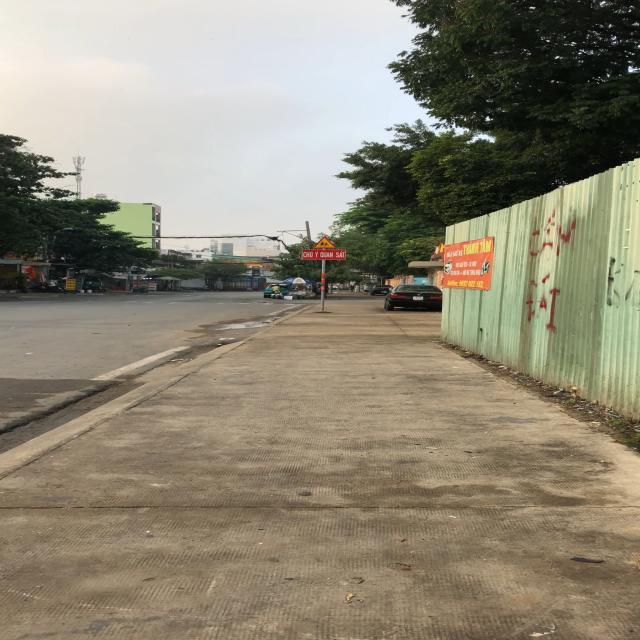Bien bao tre em: (311, 236, 338, 250)
